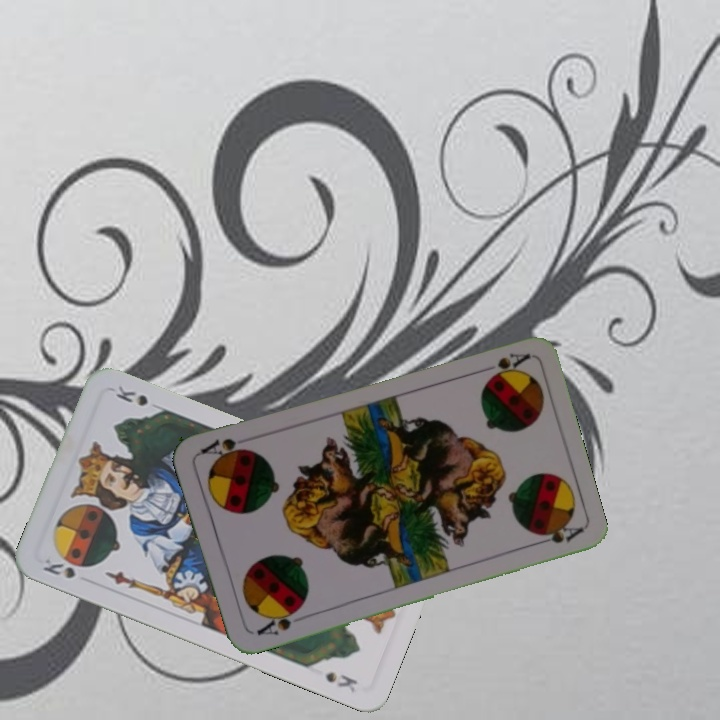SA: (475, 349, 532, 385), (252, 604, 303, 639)
SK: (38, 554, 78, 581)
